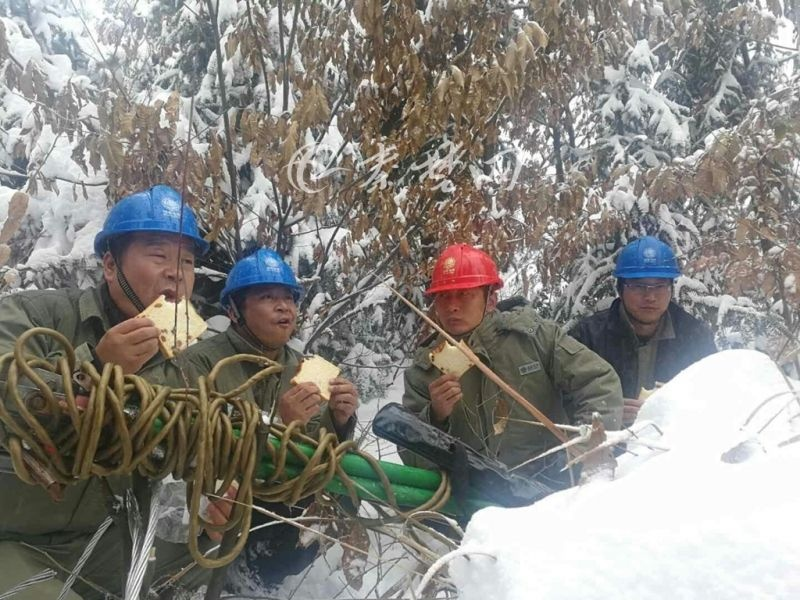blue: (91, 188, 201, 318), (216, 245, 305, 352), (604, 231, 682, 326)
red: (420, 242, 500, 333)
